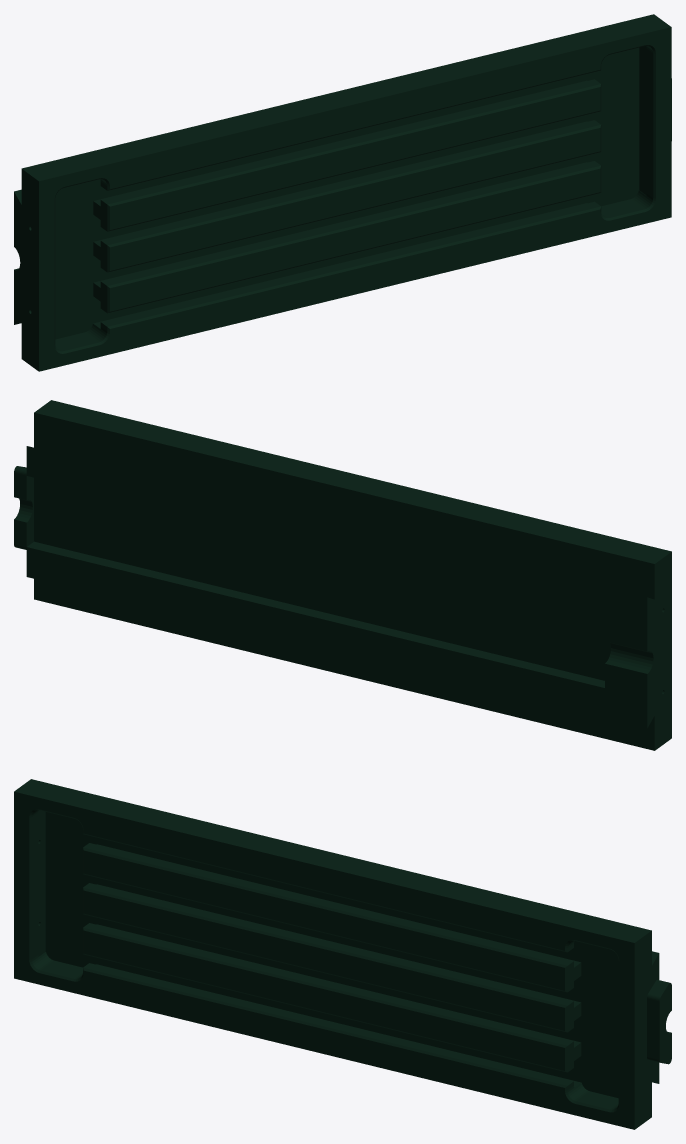
File: zatana_terra_X_parts_vis_2.dae
The picture shows the model from 3 angles, top to bottom: view 1: azimuth 30°, elevation 25°; view 2: azimuth 150°, elevation 25°; view 3: azimuth 330°, elevation 25°; orthographic projection.
Visible parts, largest first — view 1: Node_000002318374BEC0; view 2: Node_000002318374BEC0; view 3: Node_000002318374BEC0.
Part boxes in pixels (x1=…): Node_000002318374BEC0: x1=14, y1=14, x2=671, y2=371; Node_000002318374BEC0: x1=14, y1=400, x2=671, y2=750; Node_000002318374BEC0: x1=14, y1=779, x2=671, y2=1129.
Size of the model in its own units: 0.745 by 0.21 by 0.05.
